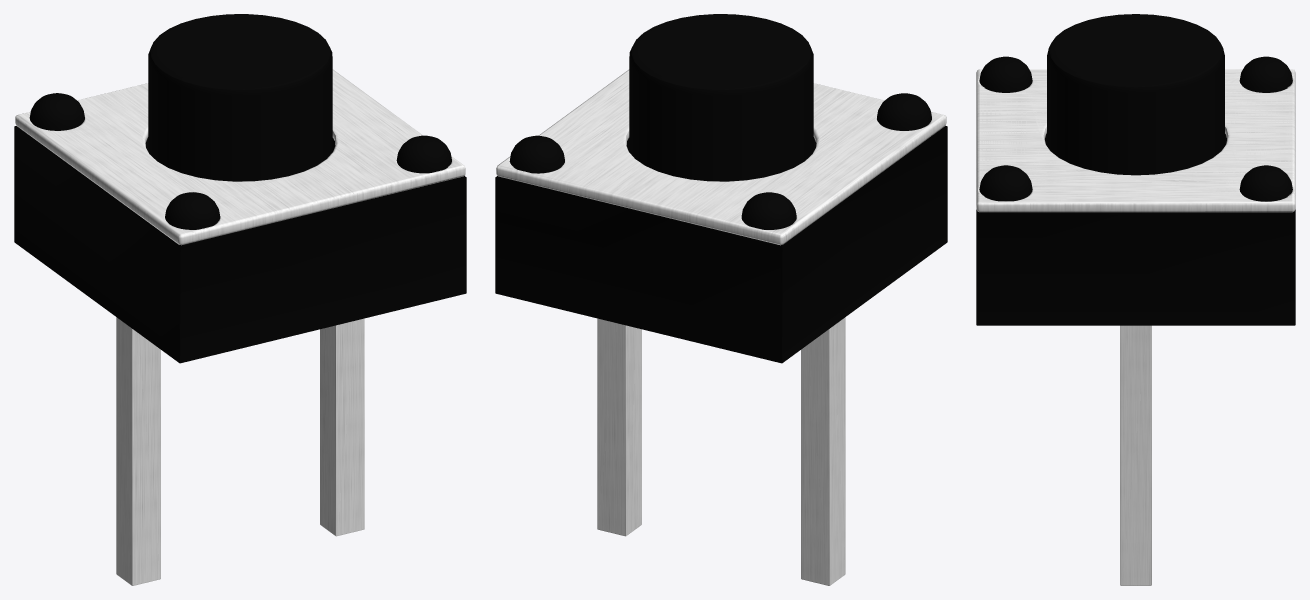
File: Button.glb
3 views of the same model, side by side, from view 1: azimuth 30°, elevation 25°; view 2: azimuth 150°, elevation 25°; view 3: azimuth 270°, elevation 25° (orthographic). The views are drawn at different scales.
Parts seen in each view (by area): view 1: Button_Body, Button_Top, CoverPlate, Button_Pins, Rivets; view 2: Button_Body, Button_Top, CoverPlate, Button_Pins, Rivets; view 3: Button_Body, Button_Top, CoverPlate, Button_Pins, Rivets.
Boxes of the visible parts, left/top/right/bottom form: Button_Body: left=14, top=123, right=466, bottom=363; Button_Top: left=148, top=14, right=332, bottom=223; CoverPlate: left=15, top=69, right=465, bottom=245; Button_Pins: left=116, top=317, right=364, bottom=585; Rivets: left=29, top=93, right=451, bottom=229; Button_Body: left=495, top=123, right=947, bottom=363; Button_Top: left=629, top=14, right=813, bottom=223; CoverPlate: left=496, top=69, right=946, bottom=245; Button_Pins: left=597, top=317, right=845, bottom=585; Rivets: left=509, top=93, right=931, bottom=229; Button_Body: left=976, top=86, right=1295, bottom=325; Button_Top: left=1047, top=14, right=1224, bottom=175; CoverPlate: left=976, top=69, right=1295, bottom=212; Button_Pins: left=1120, top=325, right=1151, bottom=585; Rivets: left=979, top=56, right=1292, bottom=201.
Bounding box in the file's own units: 2 × 3.34 × 2.
7 materials, 2 textured.
